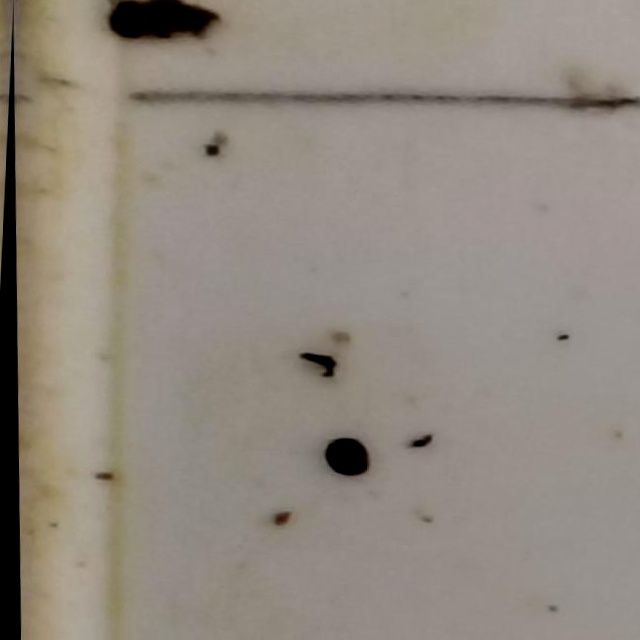varroa: (320, 436, 370, 481)
